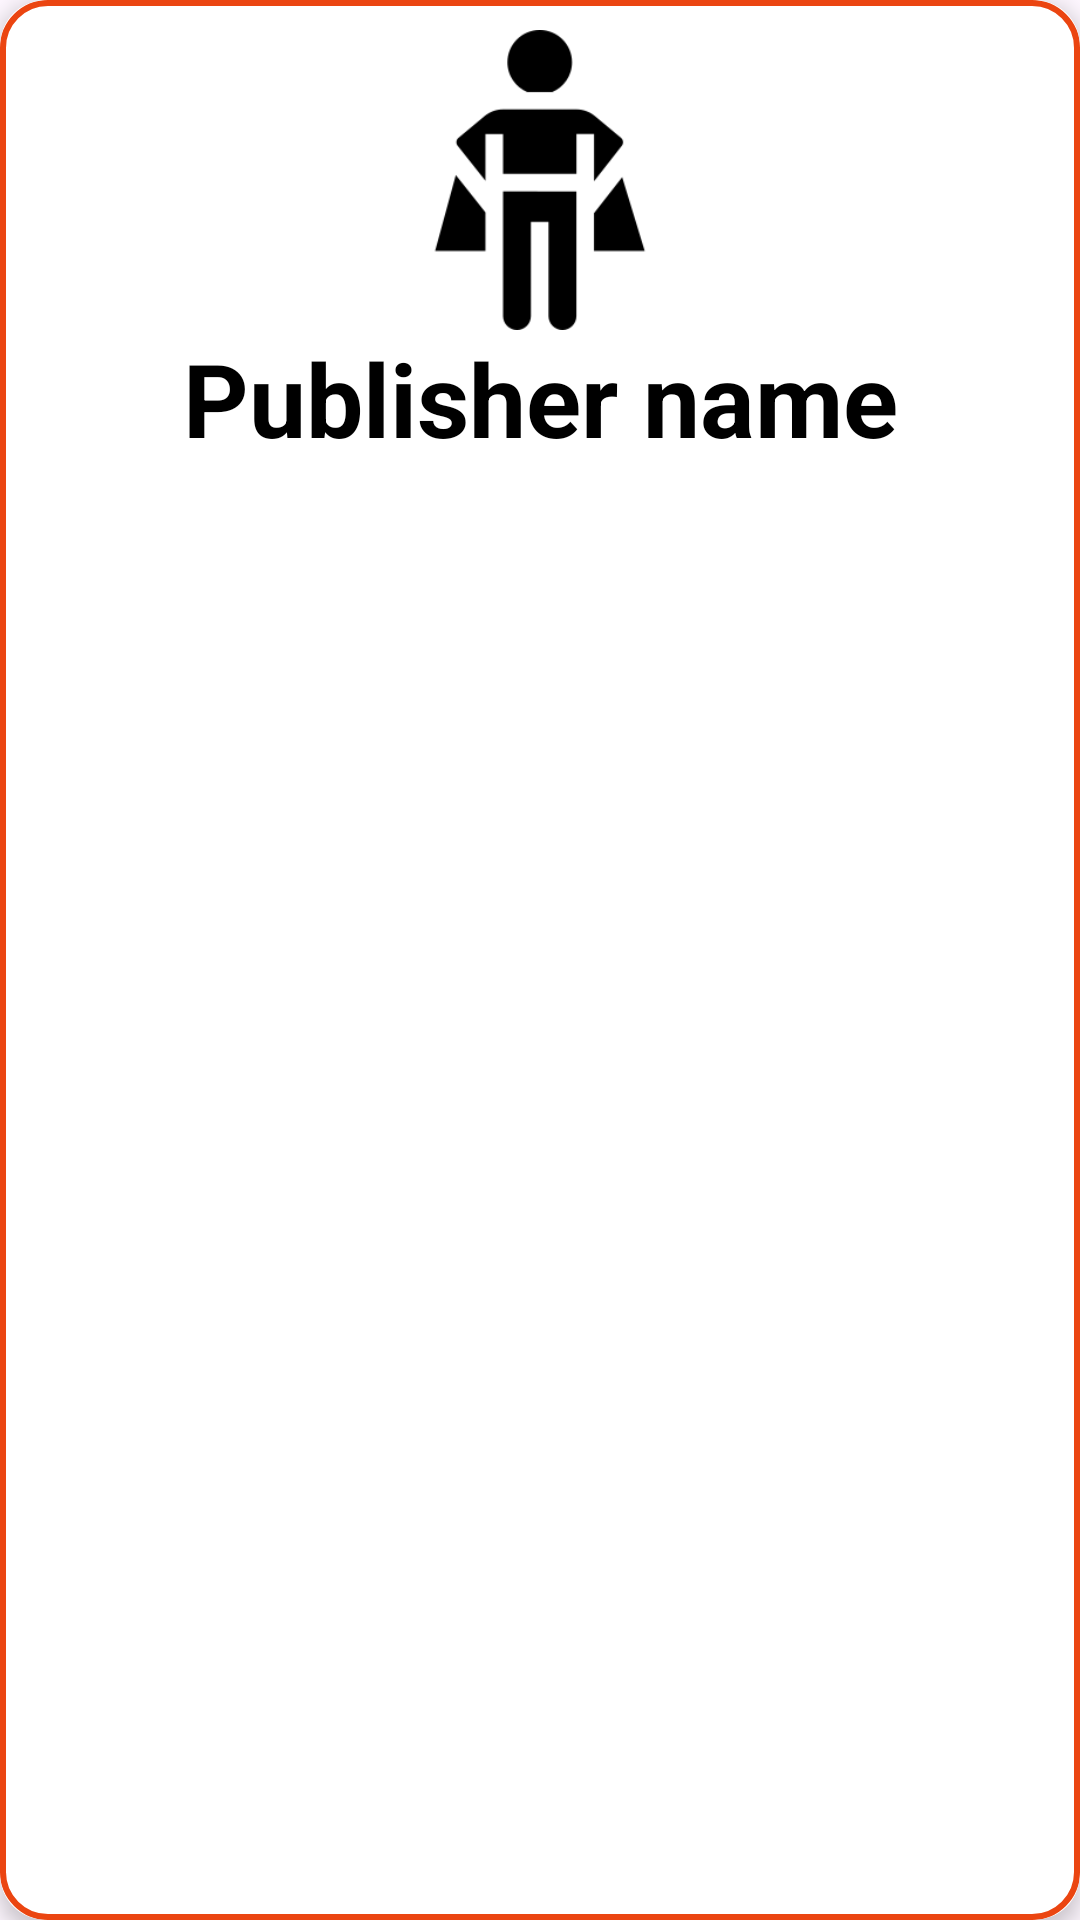

Named icons in this screenshot (1080×1920) and their centers, (x=x, y=y):
superheroe: (x=539, y=180)
